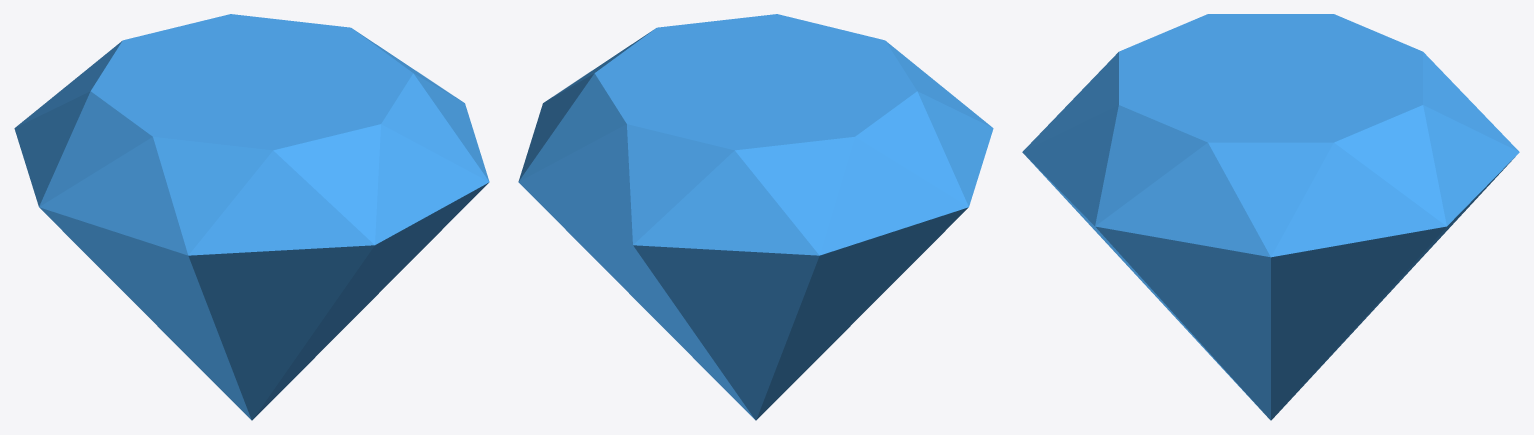
File: diamond.fbx
3 views of the same model, side by side, from view 1: azimuth 30°, elevation 25°; view 2: azimuth 150°, elevation 25°; view 3: azimuth 270°, elevation 25° (orthographic).
Parts seen in each view (by area): view 1: diamond; view 2: diamond; view 3: diamond.
Part boxes in pixels (x1,y1,x2,y2): diamond: [14, 14, 489, 420]; diamond: [518, 14, 993, 420]; diamond: [1022, 14, 1519, 420].
Bounding box in the file's own units: 8.71 × 6.62 × 8.71.
